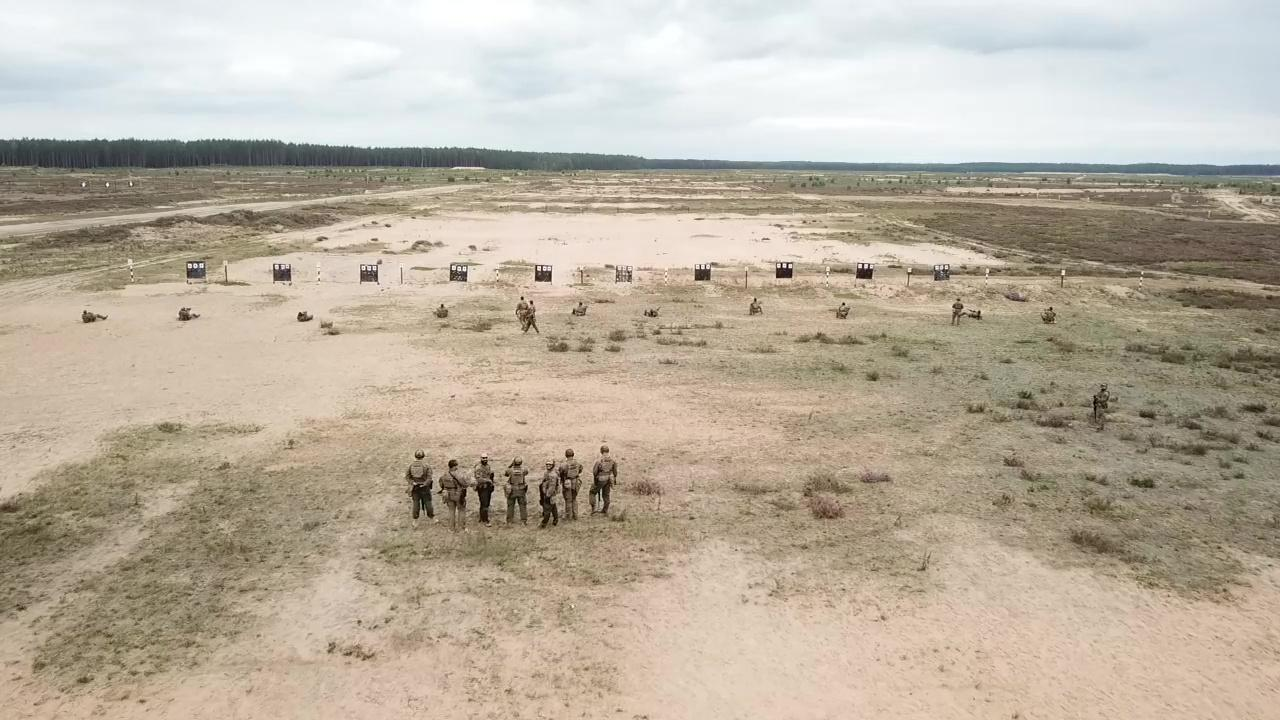Soldier: (404, 446, 442, 529), (437, 457, 474, 537), (499, 455, 532, 530), (587, 444, 620, 519), (469, 451, 498, 529), (535, 453, 563, 531), (558, 449, 585, 524), (1091, 381, 1112, 434), (523, 299, 542, 336), (514, 294, 530, 330), (949, 297, 964, 332), (80, 308, 110, 325), (1039, 304, 1060, 326), (177, 305, 204, 322), (431, 301, 452, 322), (833, 300, 852, 323), (747, 295, 767, 316), (641, 303, 665, 320), (570, 299, 590, 319), (963, 307, 986, 324), (296, 307, 315, 324)
